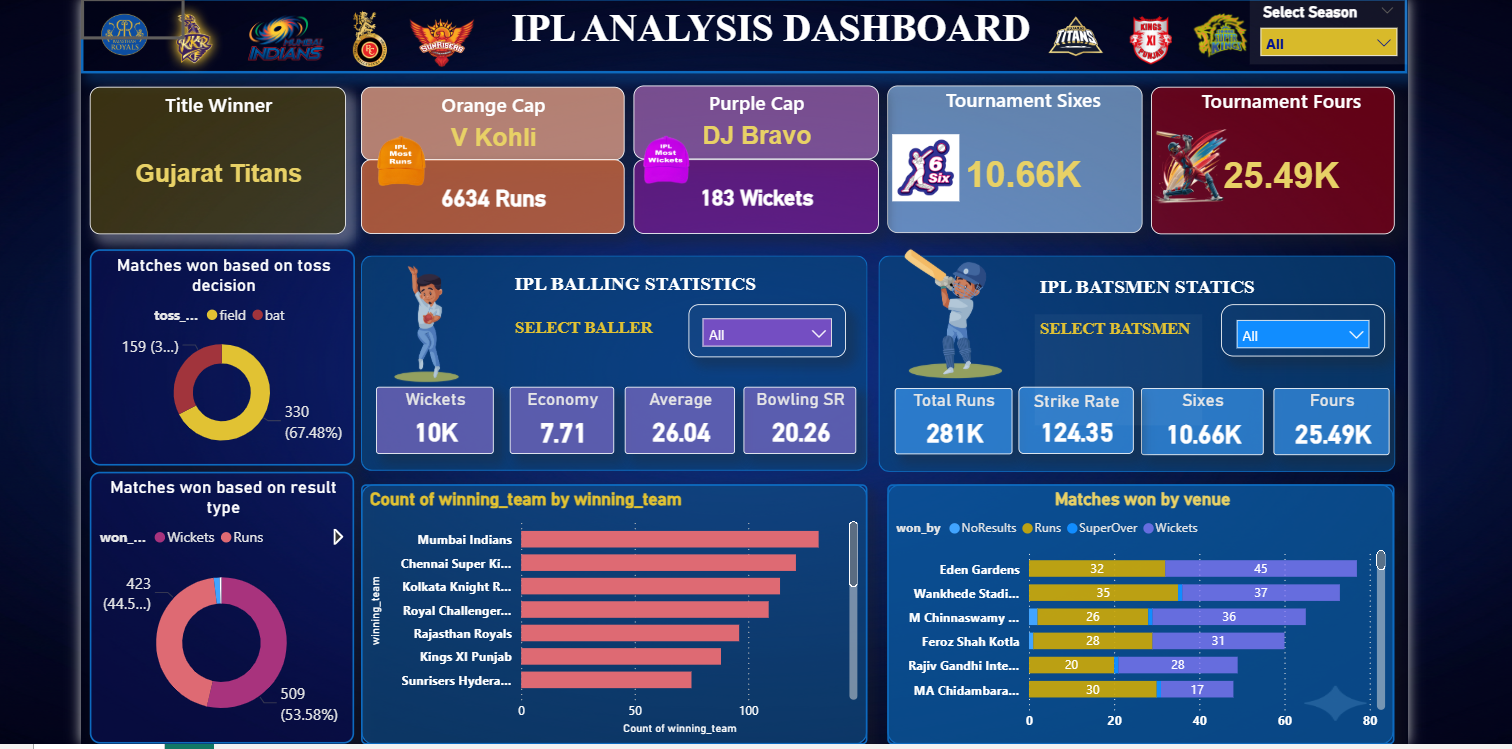

What the dashboard file says about the page in this screenshot:
{"tool":"powerbi","page":{"name":"MAIN PAGE ","canvas":[1280,720],"ordinal":0},"visuals":[{"type":"textbox","box":[0,0,1280.3,72.7],"z":0},{"type":"image","box":[49.5,0,119.4,79.6],"z":1000},{"type":"image","box":[223.2,7.2,111,63.9],"z":2000},{"type":"image","box":[1032.7,2.4,133.9,67.6],"z":3000},{"type":"image","box":[8.4,2.4,65.1,66.4],"z":4000},{"type":"image","box":[1002.6,12.1,60.3,56.7],"z":5000},{"type":"image","box":[155.6,3.6,84.5,66.4],"z":6000},{"type":"image","box":[283.5,7.2,129.1,72.4],"z":7000},{"type":"image","box":[929,4.8,62.7,63.9],"z":8000},{"type":"card","title":"Orange Cap","fields":{"Values":["Min(ipl_ball_by_ball_2008_2022.batter)"]},"box":[270.2,85.7,254.6,71.2],"z":9000},{"type":"card","title":"Orange Cap","fields":{"Values":["ipl_ball_by_ball_2008_2022.Batter Runs"]},"box":[270.2,155.6,254.6,72.4],"z":10000},{"type":"card","title":"Tournament Sixes","fields":{"Values":["CountNonNull(ipl_ball_by_ball_2008_2022.batsman_run)"]},"box":[778.2,84.5,246.1,142.4],"z":11000},{"type":"card","title":"Tournament Fours","fields":{"Values":["CountNonNull(ipl_ball_by_ball_2008_2022.batsman_run)"]},"box":[1032.7,85.7,235.3,142.4],"z":12000},{"type":"shape","box":[770,248.9,498.9,208.9],"z":13000},{"type":"card","title":"Sixes","fields":{"Values":["CountNonNull(ipl_ball_by_ball_2008_2022.batsman_run)"]},"box":[1023.1,376.4,118.2,65.1],"z":14000},{"type":"card","title":"Total Runs","fields":{"Values":["Sum(ipl_ball_by_ball_2008_2022.batsman_run)"]},"box":[785.4,376.4,113.4,63.9],"z":15000},{"type":"card","title":"Fours","fields":{"Values":["CountNonNull(ipl_ball_by_ball_2008_2022.batsman_run)"]},"box":[1150.9,376.4,112.2,65.1],"z":16000},{"type":"card","title":"Strike Rate","fields":{"Values":["ipl_ball_by_ball_2008_2022.Strike Rate for Batsman"]},"box":[904.8,375.2,111,65.1],"z":17000},{"type":"card","title":"Title Winner","fields":{"Values":["ipl_matches_2008_2022.Title Winner"]},"box":[8.4,85.7,247.3,142.4],"z":18000},{"type":"card","title":"Purple Cap","fields":{"Values":["Min(ipl_ball_by_ball_2008_2022.bowler)"]},"box":[533.2,84.5,236.5,71.2],"z":19000},{"type":"card","title":"Purple Cap","fields":{"Values":["ipl_ball_by_ball_2008_2022.Baller Wickets"]},"box":[533.2,155.6,236.5,72.4],"z":20000},{"type":"donutChart","title":"Matches won based on toss decision","fields":{"Category":["ipl_matches_2008_2022.toss_decision"],"Y":["ipl_matches_2008_2022.Matches own on toss decision"]},"box":[8.4,242.5,255.8,208.7],"z":21000},{"type":"textbox","box":[920.5,263,235.3,33.8],"z":22000},{"type":"textbox","box":[920.5,305.2,161.7,107.4],"z":23000},{"type":"slicer","fields":{"Values":["ipl_ball_by_ball_2008_2022.batter"]},"box":[1100.3,295.6,158,50.7],"z":24000},{"type":"image","box":[737.1,216,209.9,177.3],"z":25000},{"type":"actionButton","box":[0,0,100,40],"z":26000},{"type":"shape","box":[270,248.9,488.9,207.8],"z":27000},{"type":"card","title":"Wickets","fields":{"Values":["Sum(ipl_ball_by_ball_2008_2022.iswicket_delivery)"]},"box":[284.4,375.6,113.3,64.4],"z":28000},{"type":"card","title":"Economy","fields":{"Values":["ipl_ball_by_ball_2008_2022.Economy"]},"box":[413.3,375.6,101.1,64.4],"z":29000},{"type":"card","title":"Average","fields":{"Values":["ipl_ball_by_ball_2008_2022.Average by Bowler"]},"box":[524.4,375.6,106.7,64.4],"z":30000},{"type":"card","title":"Bowling SR","fields":{"Values":["ipl_ball_by_ball_2008_2022.Bowling Sr"]},"box":[640,375.6,108.9,64.4],"z":31000},{"type":"textbox","box":[413.3,261.1,256.7,34.4],"z":32000},{"type":"textbox","box":[413.3,304.4,181.1,44.4],"z":33000},{"type":"slicer","fields":{"Values":["ipl_ball_by_ball_2008_2022.bowler"]},"box":[586.7,295.6,152.2,51.1],"z":34000},{"type":"image","box":[205.6,248.9,256.7,132.2],"z":35000},{"type":"donutChart","title":"Matches won based on result type","fields":{"Y":["CountNonNull(ipl_matches_2008_2022.id)"],"Category":["ipl_matches_2008_2022.won_by"]},"box":[8.8,457.5,255,262.5],"z":36000},{"type":"shape","box":[778.8,468.8,488.8,251.2],"z":37000},{"type":"shape","box":[270,468.8,488.8,251.2],"z":38000},{"type":"barChart","title":"Matches won by venue","fields":{"Category":["ipl_matches_2008_2022.venue"],"Y":["CountNonNull(ipl_matches_2008_2022.id)"],"Series":["ipl_matches_2008_2022.won_by"]},"box":[778.2,469.3,489.8,250.9],"z":39000},{"type":"barChart","fields":{"Category":["ipl_matches_2008_2022.winning_team"],"Y":["CountNonNull(ipl_matches_2008_2022.winning_team)"]},"box":[270.2,469.3,488.6,250.9],"z":40000},{"type":"slicer","fields":{"Values":["Calendar Table.Year"]},"box":[1128,0,152,63.9],"z":41000},{"type":"image","box":[270.2,126.7,78.4,61.5],"z":42000},{"type":"image","box":[524.8,126.7,80.8,59.1],"z":43000},{"type":"image","box":[1024.3,118.2,92.9,86.9],"z":44000},{"type":"image","box":[778.2,121.9,74.8,83.2],"z":45000}]}

Visuals, with their boxes in screenshot pixels (x1, y1, x2, y2):
textbox: (83, 4, 1395, 78)
image: (133, 4, 256, 86)
image: (311, 11, 425, 77)
image: (1141, 6, 1278, 76)
image: (91, 6, 158, 74)
image: (1110, 16, 1172, 74)
image: (242, 8, 329, 76)
image: (373, 11, 505, 86)
image: (1035, 9, 1099, 74)
"Orange Cap" card: (360, 92, 620, 165)
"Orange Cap" card: (360, 163, 620, 238)
"Tournament Sixes" card: (880, 91, 1132, 236)
"Tournament Fours" card: (1141, 92, 1382, 238)
shape: (872, 259, 1383, 473)
"Sixes" card: (1131, 390, 1252, 456)
"Total Runs" card: (887, 390, 1004, 455)
"Fours" card: (1262, 390, 1377, 456)
"Strike Rate" card: (1010, 388, 1124, 455)
"Title Winner" card: (91, 92, 345, 238)
"Purple Cap" card: (629, 91, 871, 163)
"Purple Cap" card: (629, 163, 871, 238)
"Matches won based on toss decision" donutChart: (91, 252, 353, 466)
textbox: (1026, 273, 1267, 308)
textbox: (1026, 317, 1192, 427)
slicer - ipl_ball_by_ball_2008_2022.batter: (1210, 307, 1372, 359)
image: (838, 225, 1053, 407)
actionButton: (83, 4, 185, 45)
shape: (359, 259, 860, 472)
"Wickets" card: (374, 389, 490, 455)
"Economy" card: (506, 389, 610, 455)
"Average" card: (620, 389, 729, 455)
"Bowling SR" card: (738, 389, 850, 455)
textbox: (506, 271, 769, 307)
textbox: (506, 316, 692, 361)
slicer - ipl_ball_by_ball_2008_2022.bowler: (684, 307, 840, 359)
image: (293, 259, 556, 394)
"Matches won based on result type" donutChart: (92, 473, 353, 742)
shape: (881, 484, 1382, 742)
shape: (359, 484, 860, 742)
"Matches won by venue" barChart: (880, 485, 1382, 742)
barChart - ipl_matches_2008_2022.winning_team x CountNonNull(ipl_matches_2008_2022.winning_team): (360, 485, 860, 742)
slicer - Calendar Table.Year: (1239, 4, 1394, 69)
image: (360, 134, 440, 197)
image: (620, 134, 703, 194)
image: (1132, 125, 1227, 214)
image: (880, 129, 957, 214)
